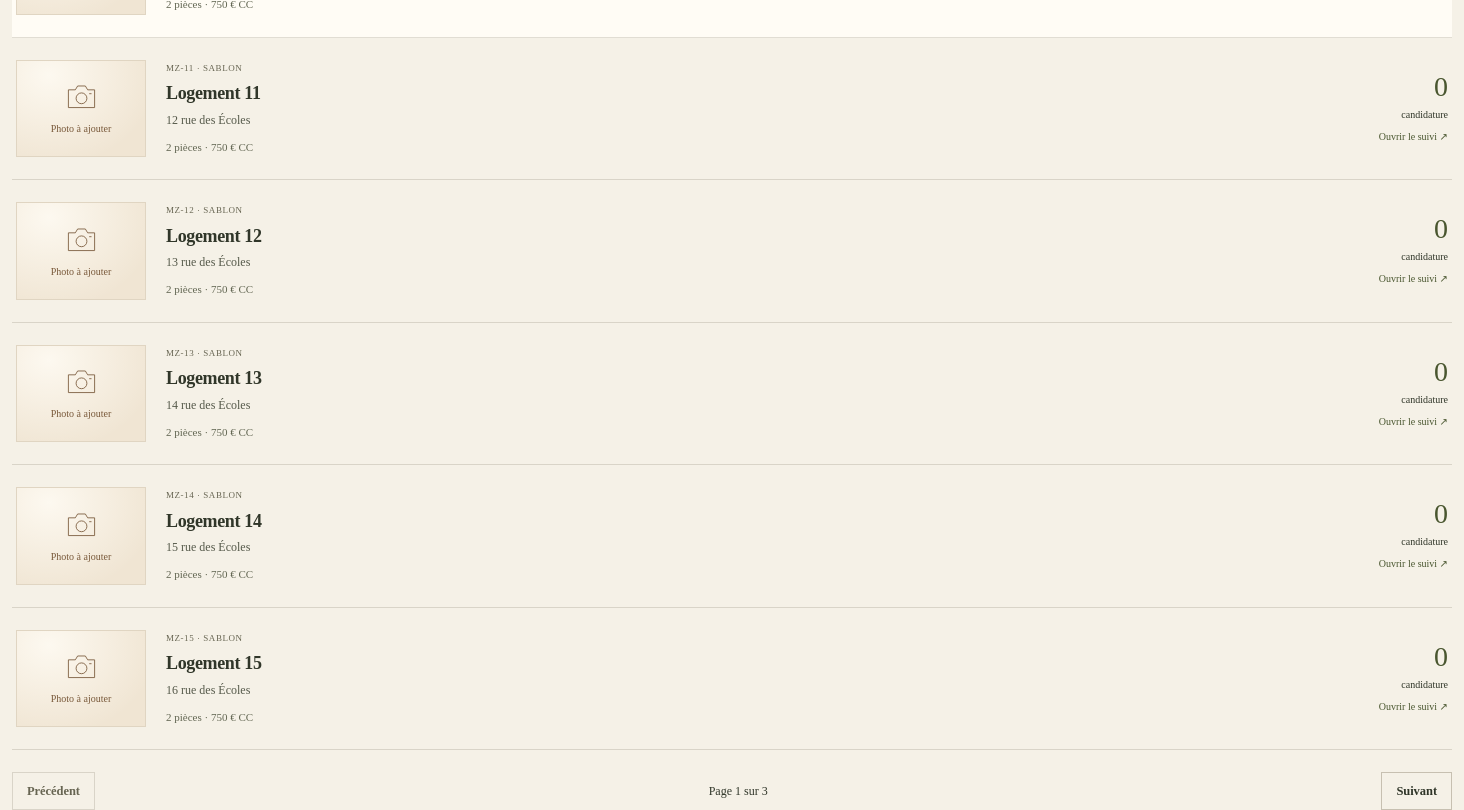
Test: Candidatures organisées par bien › pagine un grand portefeuille et retrouve un bien par son adresse sans les accents
The width and height of the screenshot is (1464, 810).
(page scrolled)
Click the button "Suivant" at (1417,791), box [1381,772,1452,809]
(page scrolled)
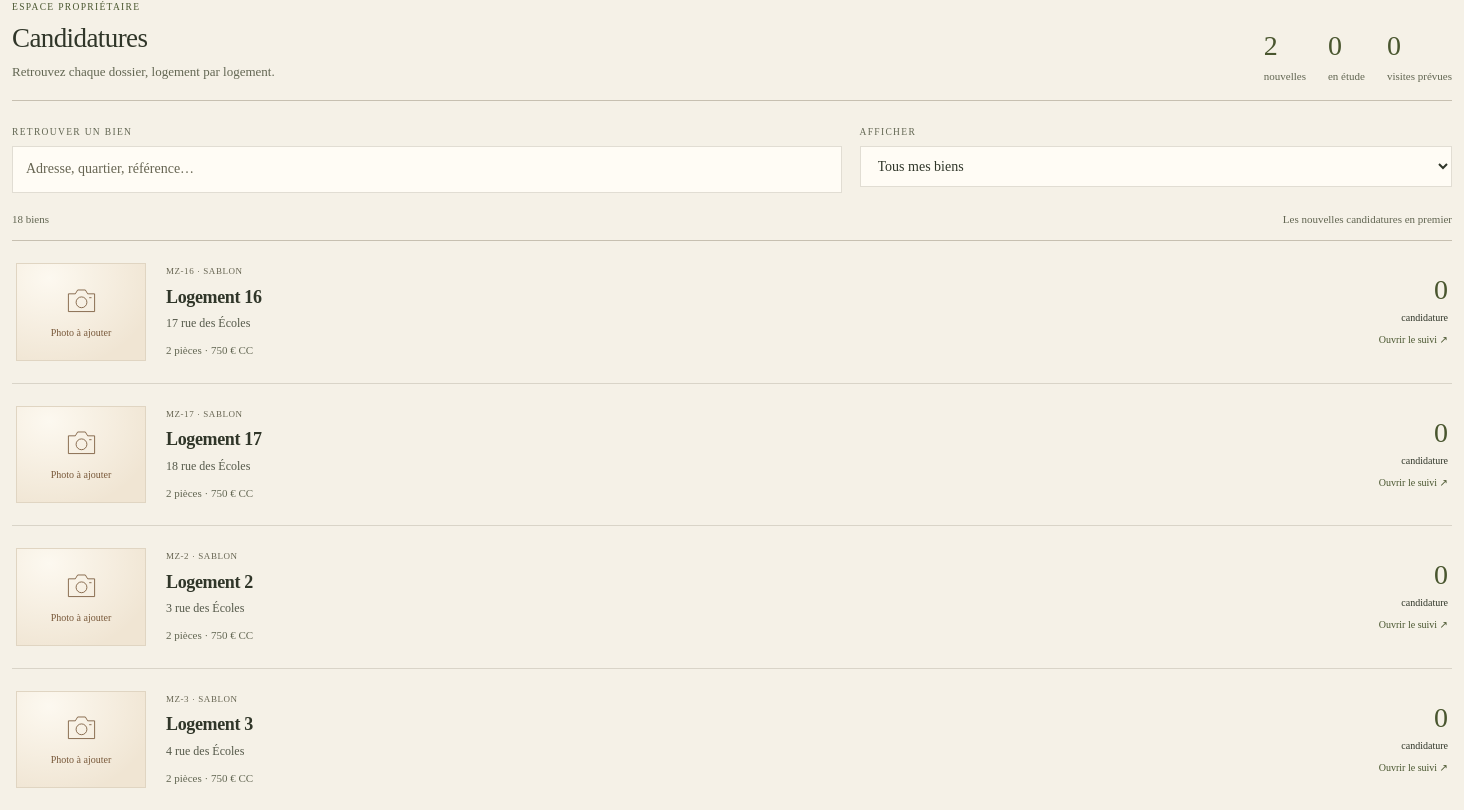
Type "10 rue des ecoles" into the search field at (427,170), box [12,146,842,193]
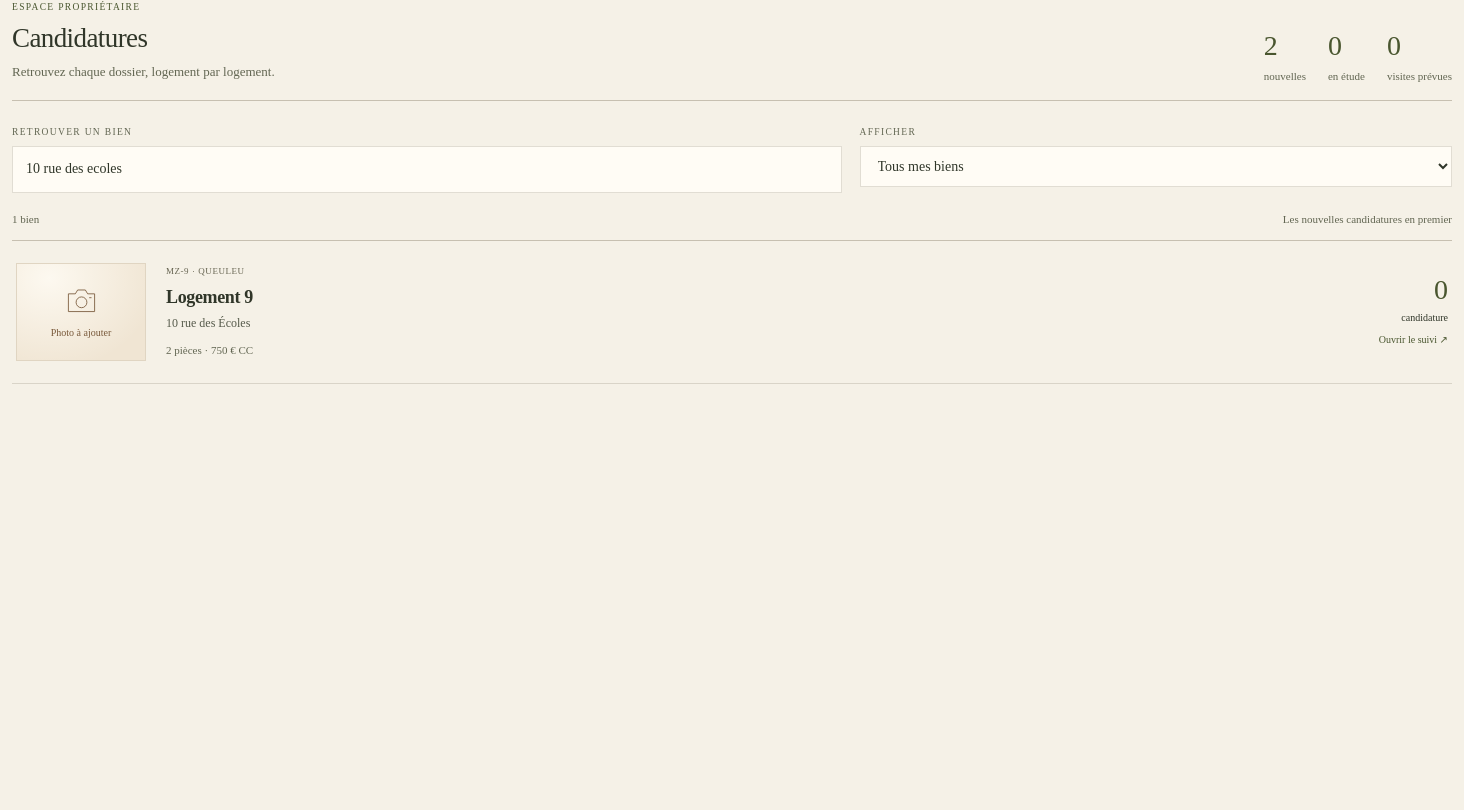
expect the number of links is 1: met, box [12,241,1452,384]
